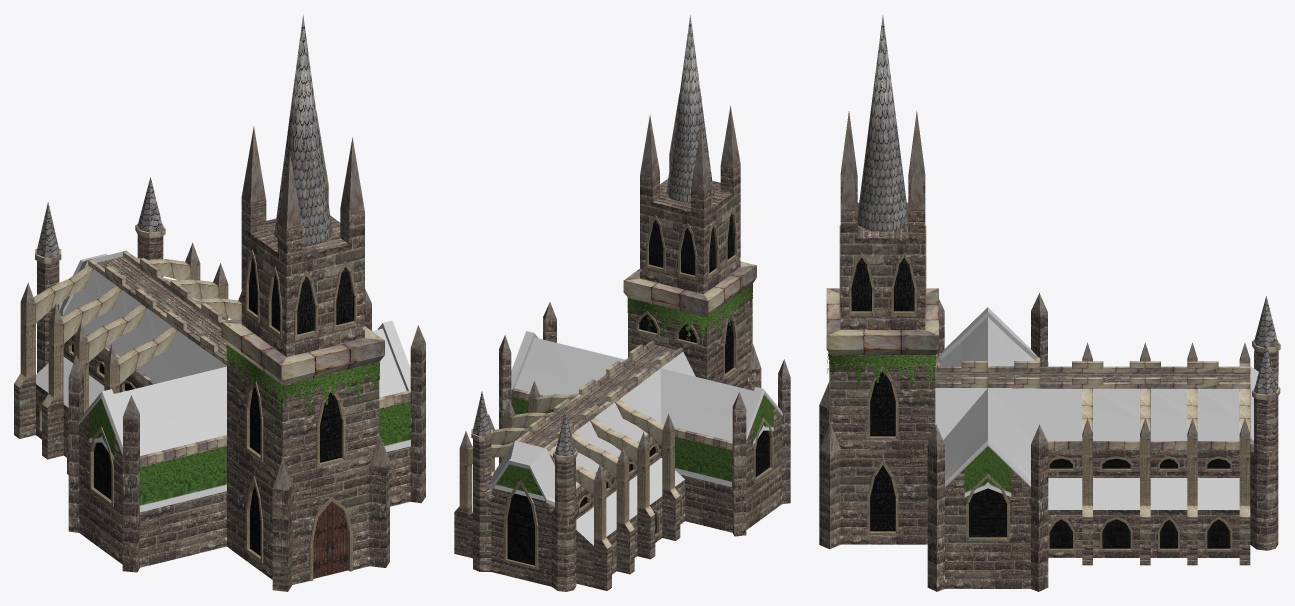
The model's file is Cathedral.FBX.
3 views of the same model, side by side, from view 1: azimuth 30°, elevation 25°; view 2: azimuth 150°, elevation 25°; view 3: azimuth 270°, elevation 25° (orthographic). The views are drawn at different scales.
Visible parts, largest first — view 1: Cathedral, Ivy07, Ivy08, Ivy02, Ivy03; view 2: Cathedral, Ivy06, Ivy08, Ivy01, Ivy03; view 3: Cathedral, Ivy08, Ivy04.
Boxes of the visible parts, x1,y1,x2,y2 form: Cathedral: (14, 14, 425, 591); Ivy07: (139, 446, 226, 512); Ivy08: (226, 344, 379, 412); Ivy02: (379, 401, 410, 451); Ivy03: (89, 398, 114, 460); Cathedral: (454, 15, 790, 591); Ivy06: (661, 436, 731, 487); Ivy08: (627, 284, 752, 339); Ivy01: (494, 464, 545, 500); Ivy03: (753, 395, 773, 444); Cathedral: (819, 15, 1280, 591); Ivy08: (827, 351, 939, 386); Ivy04: (964, 446, 1011, 496).
Bounding box in the file's own units: 3134 × 4396 × 5347.
